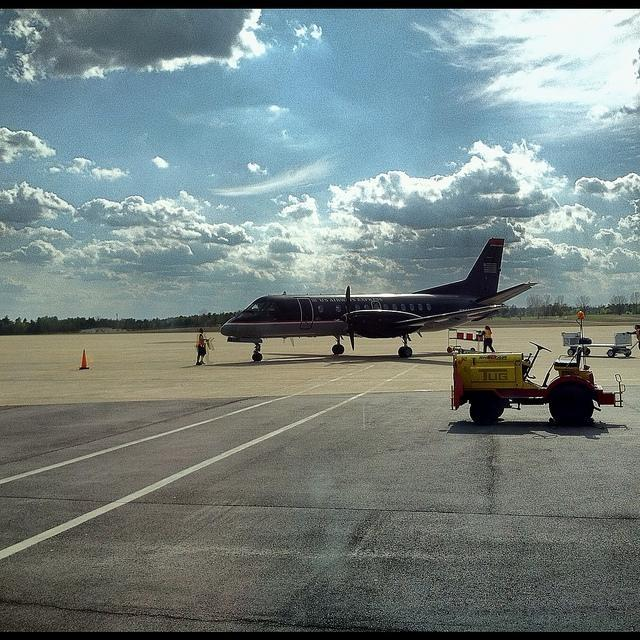truck: (451, 340, 623, 425)
